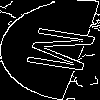M: (25, 25, 100, 76)
